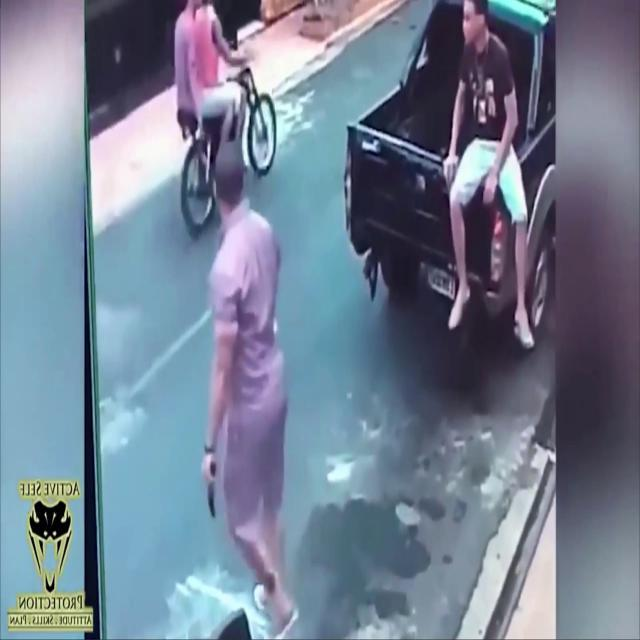Gun: (205, 458, 218, 520)
